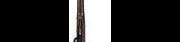gun: (71, 0, 110, 42)
